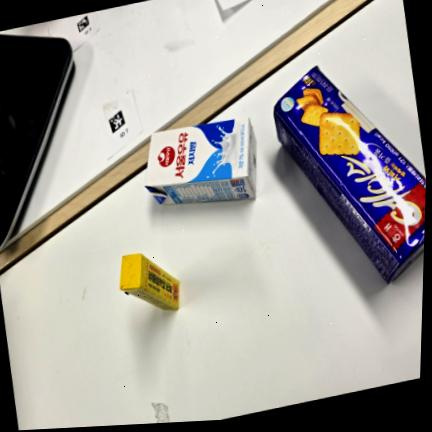cracker_ace: (274, 67, 426, 282)
gum_yellow: (120, 254, 180, 310)
milk_blue: (145, 117, 257, 205)
